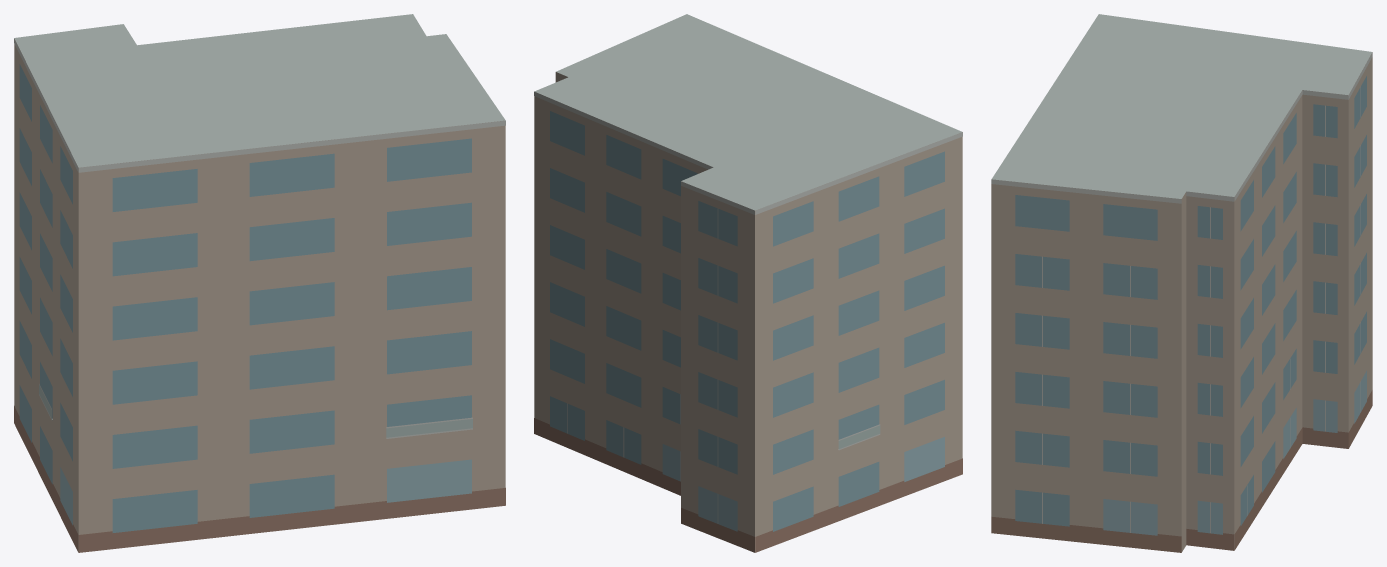
File: survey-upis-32773503.glb
3 views of the same model, side by side, from view 1: azimuth 30°, elevation 25°; view 2: azimuth 150°, elevation 25°; view 3: azimuth 270°, elevation 25° (orthographic). The views are drawn at different scales.
Visible parts, largest first — view 1: survey-upis-32773503.tmp; view 2: survey-upis-32773503.tmp; view 3: survey-upis-32773503.tmp.
Part boxes in pixels (left/top/right/bottom): survey-upis-32773503.tmp: left=14, top=14, right=505, bottom=552; survey-upis-32773503.tmp: left=534, top=14, right=962, bottom=552; survey-upis-32773503.tmp: left=991, top=14, right=1372, bottom=552.
Bounding box in the file's own units: 20.65 × 18.4 × 17.97.
